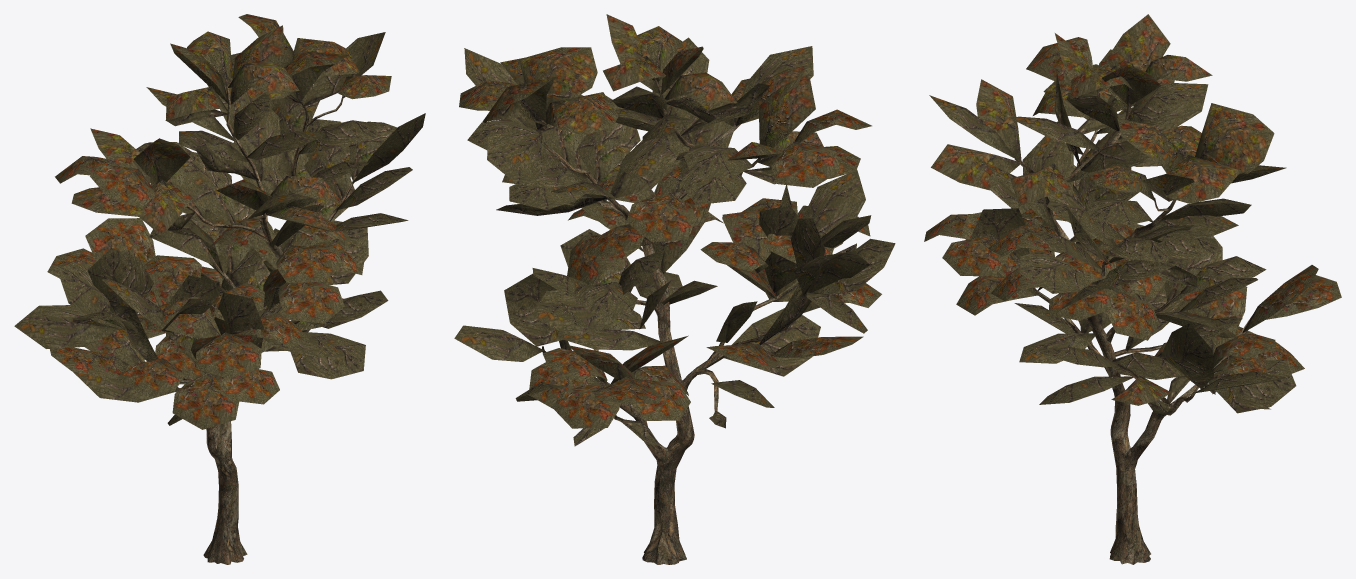
The model's file is HTree.FBX.
3 views of the same model, side by side, from view 1: azimuth 30°, elevation 25°; view 2: azimuth 150°, elevation 25°; view 3: azimuth 270°, elevation 25° (orthographic). The views are drawn at different scales.
Parts seen in each view (by area): view 1: LV_Hieracon_Tree_AspenTree01_SM_NWCNIK; view 2: LV_Hieracon_Tree_AspenTree01_SM_NWCNIK; view 3: LV_Hieracon_Tree_AspenTree01_SM_NWCNIK.
Boxes of the visible parts, x1,y1,x2,y2 form: LV_Hieracon_Tree_AspenTree01_SM_NWCNIK: (14,14,425,564); LV_Hieracon_Tree_AspenTree01_SM_NWCNIK: (454,14,895,564); LV_Hieracon_Tree_AspenTree01_SM_NWCNIK: (924,14,1341,564).
Size of the model in its own units: 231 by 298 by 217.
